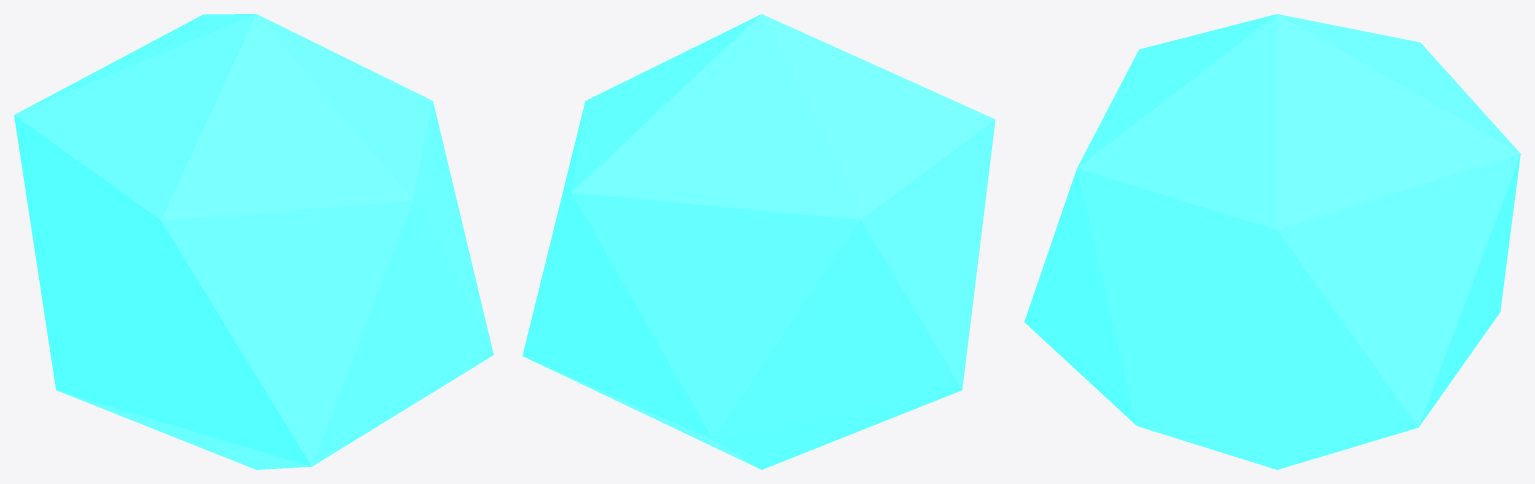
The model's file is kanban_core_outer_shell.glb.
The picture shows the model from 3 angles, left to right: view 1: azimuth 30°, elevation 25°; view 2: azimuth 150°, elevation 25°; view 3: azimuth 270°, elevation 25°; orthographic projection.
Visible parts, largest first — view 1: kanban_core_outer_shell; view 2: kanban_core_outer_shell; view 3: kanban_core_outer_shell.
Boxes of the visible parts, left/top/right/bottom form: kanban_core_outer_shell: left=14, top=14, right=493, bottom=469; kanban_core_outer_shell: left=522, top=14, right=995, bottom=469; kanban_core_outer_shell: left=1024, top=14, right=1520, bottom=469.
Bounding box in the file's own units: 0.8314 × 0.9609 × 0.9483.
